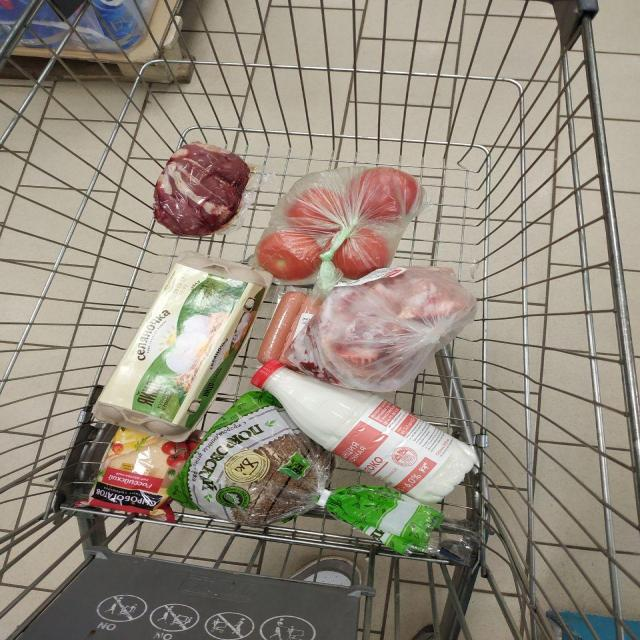cheese: (86, 244, 277, 640)
egg: (130, 145, 400, 431)
milk: (240, 237, 640, 640)
tomato: (198, 132, 582, 372), (158, 129, 479, 382), (171, 109, 499, 325), (212, 92, 618, 264)
